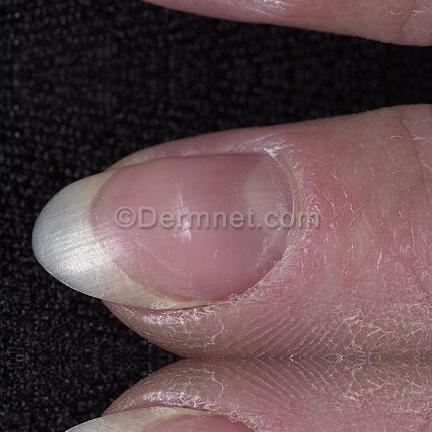Nail: (31, 149, 293, 310), (63, 405, 256, 432)
